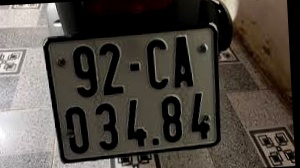Bien-so: (54, 22, 240, 157)
